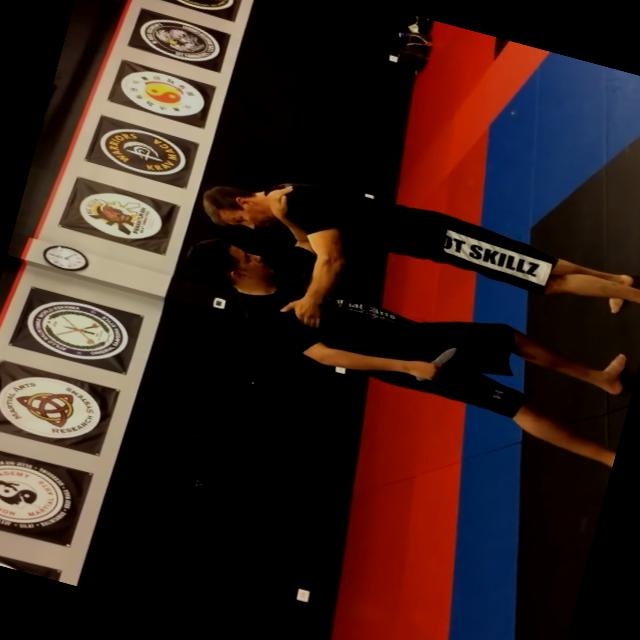knife: (412, 338, 459, 390)
